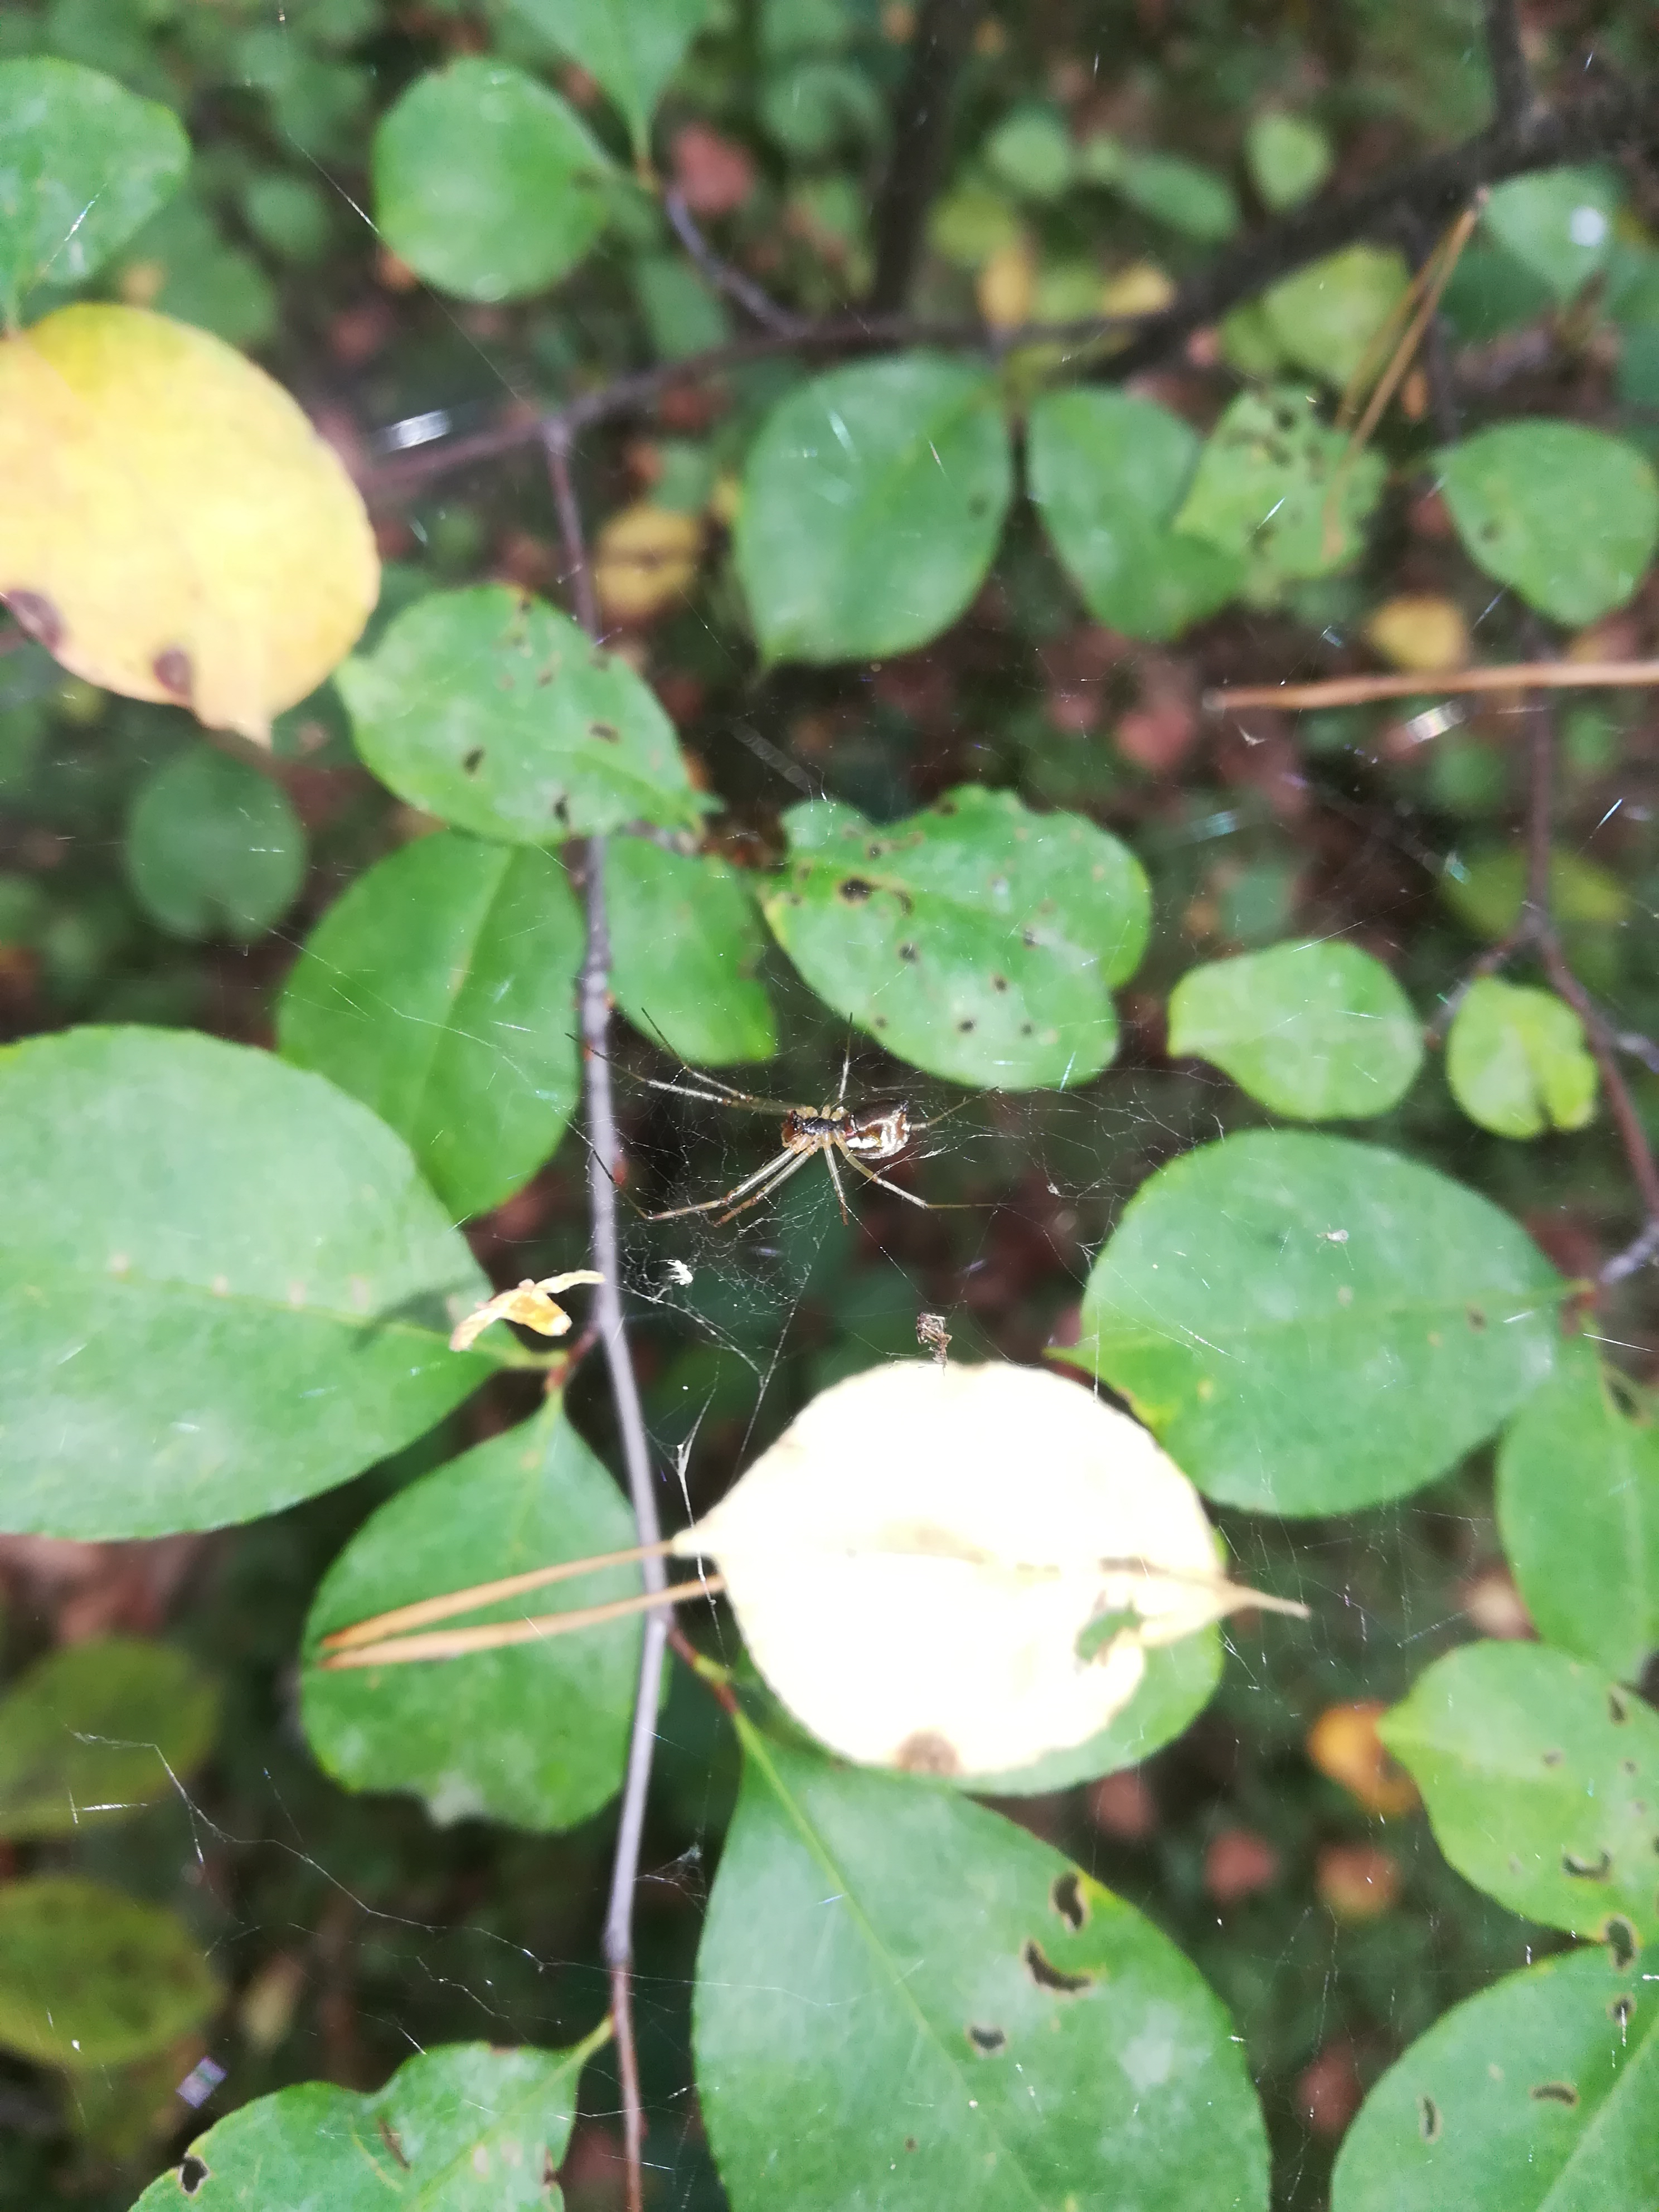spider: (542, 972, 1004, 1285)
